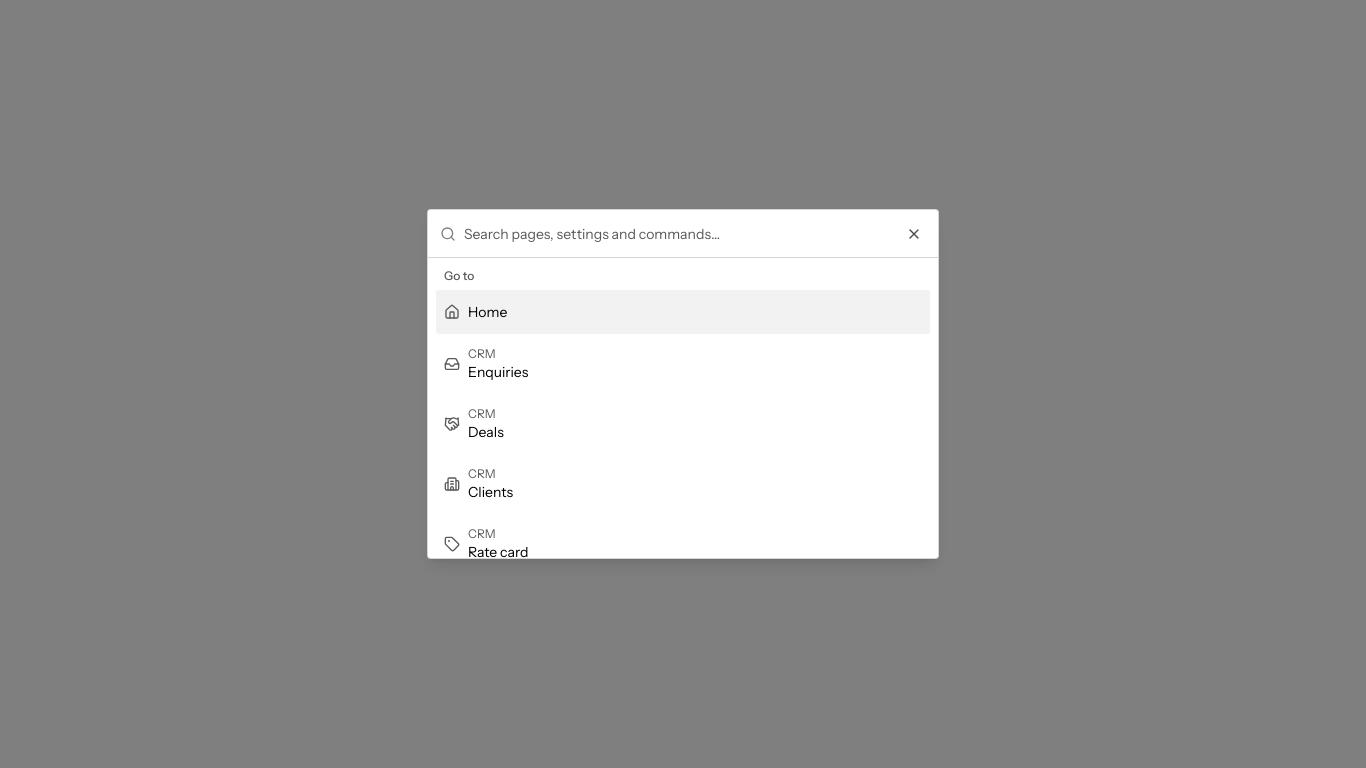
Test case: typing into the palette › finds bank details by iban, which is nowhere in the navigation
In the dropdown with placeholder "Search pages, settings and commands…": x=695, y=234 [464,210,926,258], type "iban"
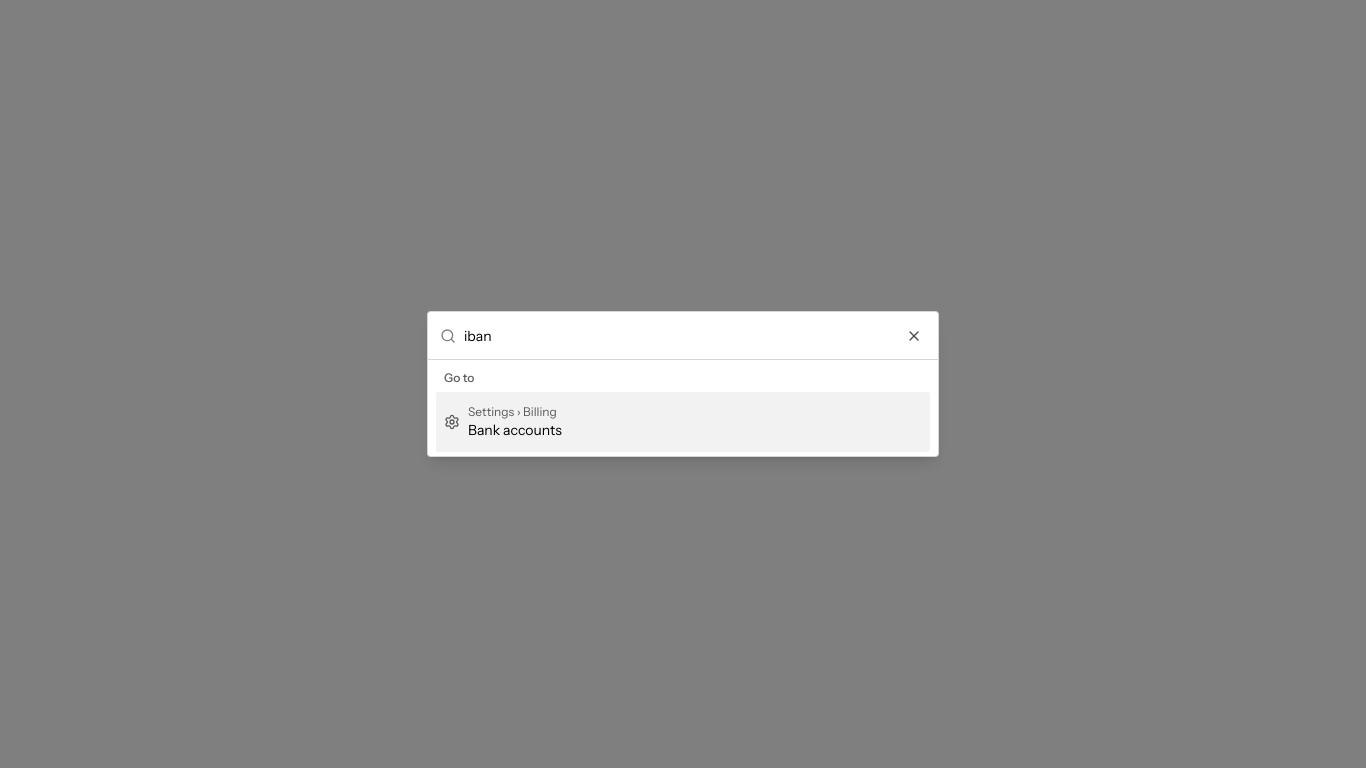
Check: the text "Bank accounts" is shown, box [468,420,562,440]
